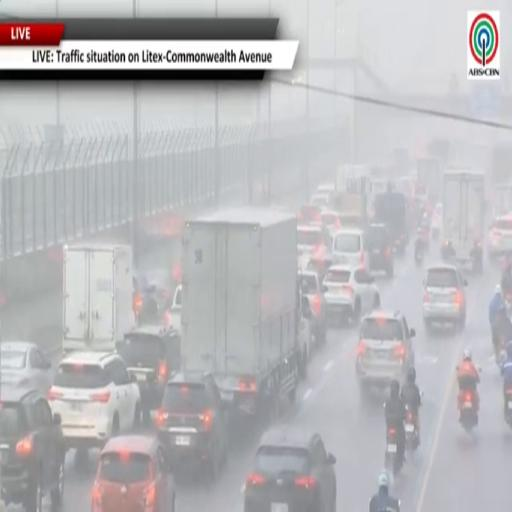car: (48, 351, 140, 457), (0, 386, 65, 511), (156, 372, 228, 479), (244, 428, 336, 511), (91, 435, 175, 511), (117, 326, 181, 423), (356, 311, 415, 394), (323, 265, 380, 324), (423, 265, 467, 329), (0, 341, 53, 393), (299, 270, 326, 345), (134, 276, 171, 325), (365, 223, 393, 277), (297, 293, 314, 378), (331, 229, 368, 268), (297, 226, 332, 267), (487, 214, 512, 260), (304, 254, 333, 282), (166, 284, 182, 333), (297, 204, 322, 226), (321, 210, 342, 235), (431, 203, 443, 240), (310, 192, 332, 209), (316, 183, 336, 194)
motorcycle: (385, 428, 404, 475), (459, 391, 478, 431), (405, 406, 419, 452), (495, 336, 506, 367), (415, 237, 425, 264), (505, 389, 511, 427), (385, 500, 401, 511), (432, 228, 440, 242)
truck: (182, 207, 300, 417), (63, 244, 136, 353), (441, 168, 485, 273), (372, 189, 410, 254), (333, 165, 370, 227), (416, 157, 443, 210), (491, 144, 511, 185), (491, 181, 511, 217)
